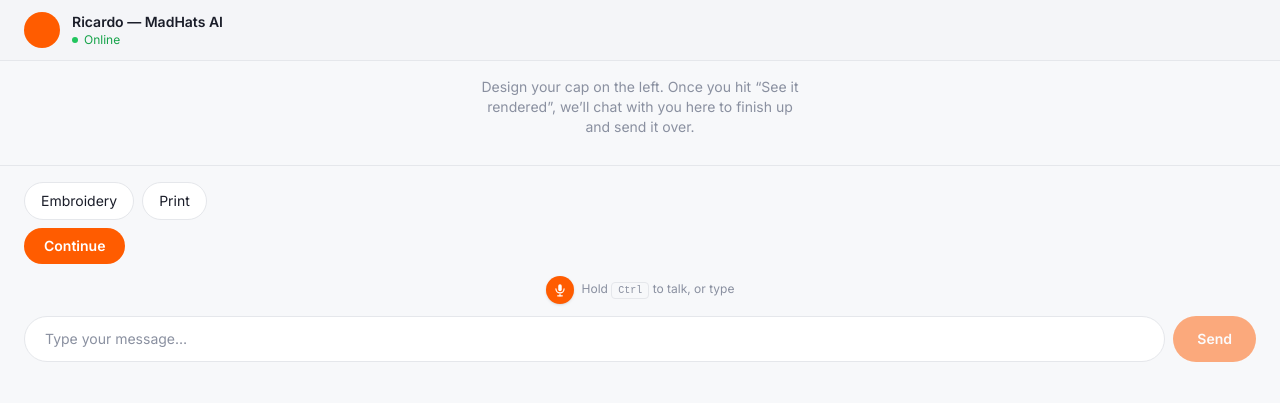
Test: ChatColumn › ask_decoration shows a multi-select with cost caveat once 2+ chosen
The image size is (1280, 403).
Click the button "Embroidery": (79, 201) [24,182,134,220]
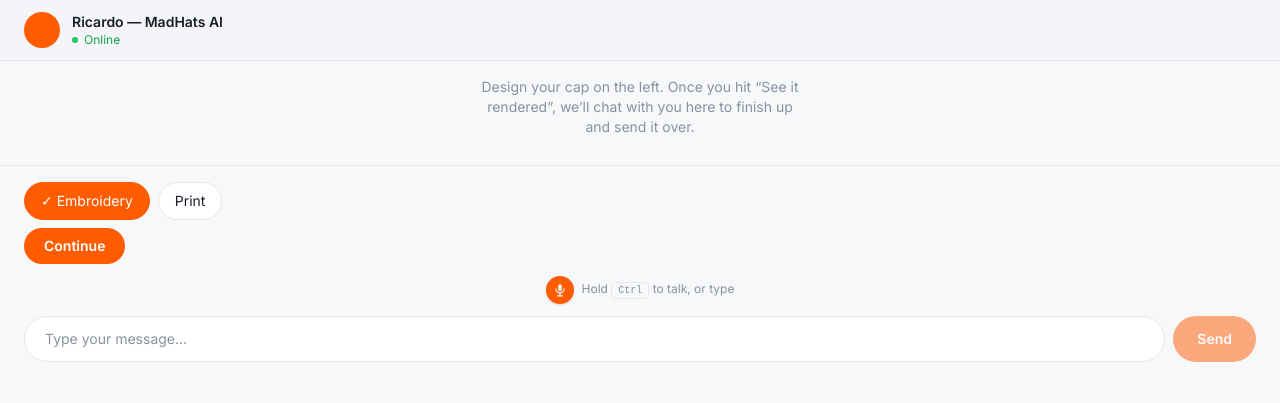
Click the button "Print": (190, 201) [158,182,222,220]
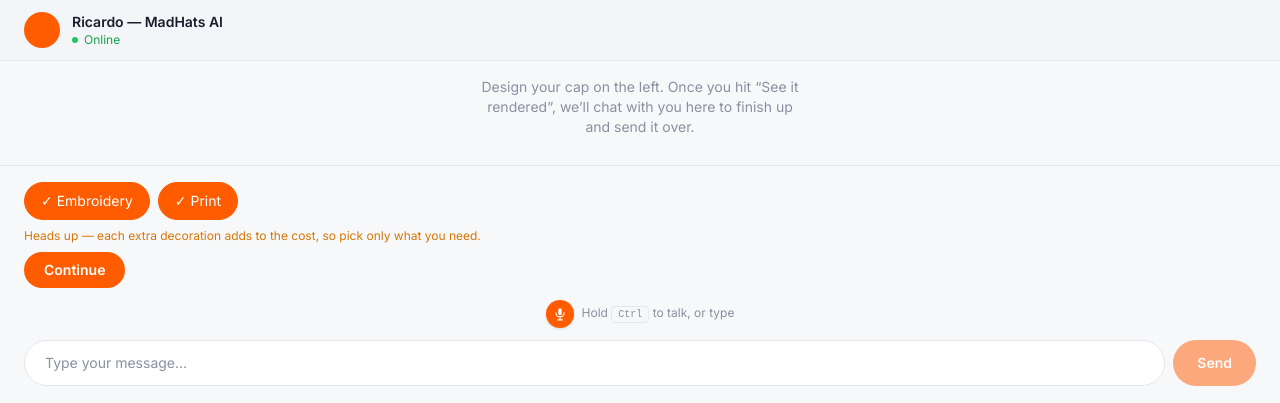
Now the text "adds to the cost" is shown, box [24,228,481,243]
